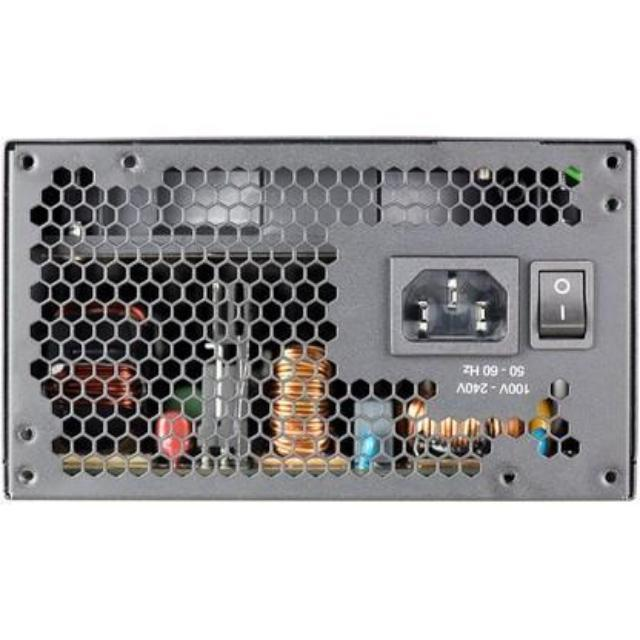PSU: (0, 132, 640, 512)
